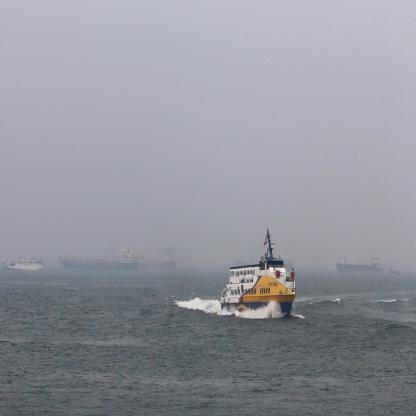Container Ship: (61, 247, 136, 272), (235, 249, 292, 270), (334, 258, 382, 274), (2, 254, 44, 272), (148, 250, 176, 272), (136, 255, 146, 271), (389, 266, 400, 275)
